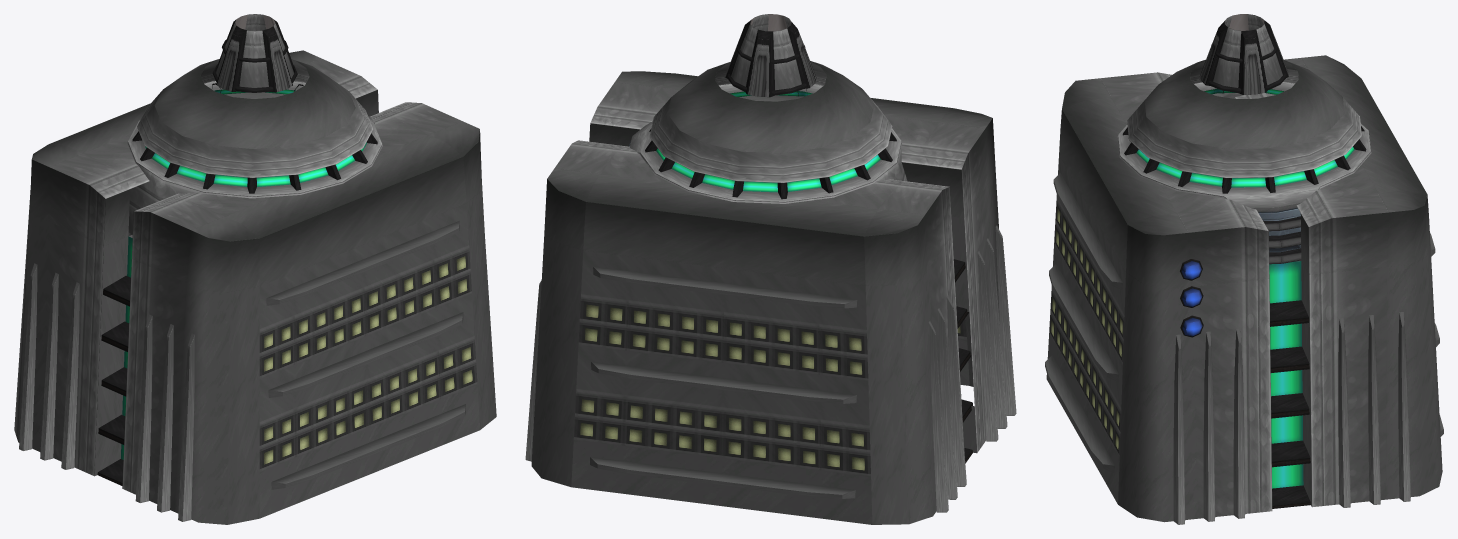
The model's file is predio01.glb.
3 views of the same model, side by side, from view 1: azimuth 30°, elevation 25°; view 2: azimuth 150°, elevation 25°; view 3: azimuth 270°, elevation 25° (orthographic). The views are drawn at different scales.
Visible parts, largest first — view 1: Object_Ties.003; view 2: Object_Ties.003; view 3: Object_Ties.003.
Boxes of the visible parts, box(x1,y1,x2,y2) form: Object_Ties.003: box(14, 14, 496, 524); Object_Ties.003: box(525, 14, 1016, 524); Object_Ties.003: box(1045, 14, 1443, 524).
Size of the model in its own units: 30.56 by 28.8 by 25.85.
15 materials, 15 textured.
